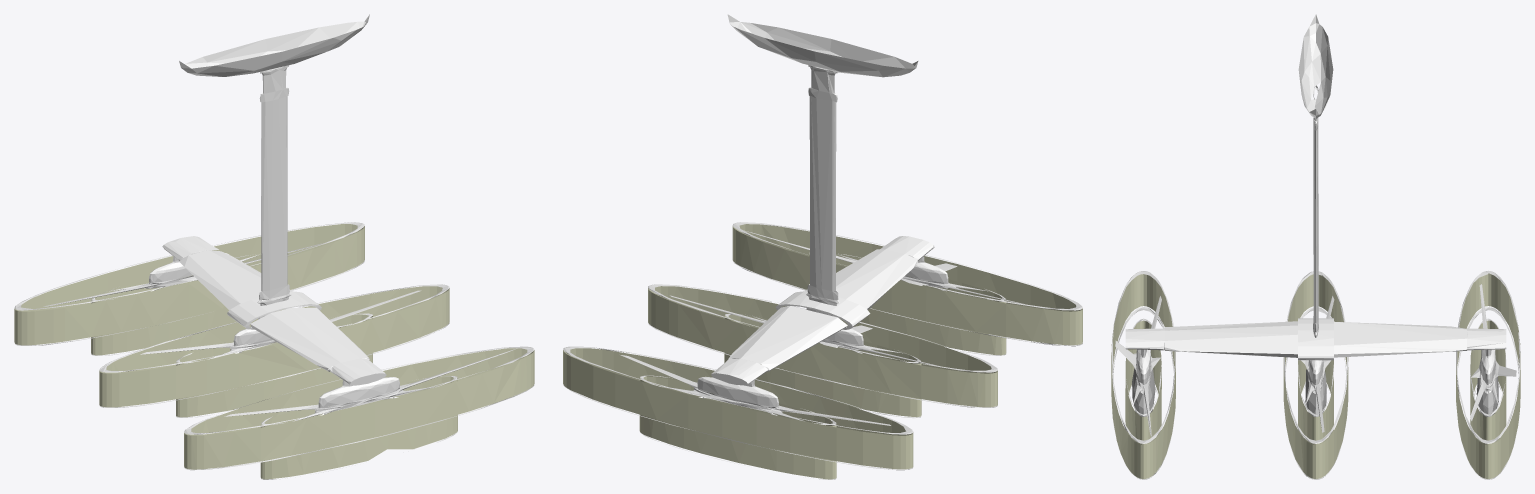
The model's file is sh-scopia-saloon-lamp.glb.
3 views of the same model, side by side, from view 1: azimuth 30°, elevation 25°; view 2: azimuth 150°, elevation 25°; view 3: azimuth 270°, elevation 25° (orthographic).
Visible parts, largest first — view 1: Circle_Circle_pantalla, Circle_Circle_gold, Circle_Circle_redwood, Circle_Circle_whitemetal; view 2: Circle_Circle_pantalla, Circle_Circle_gold, Circle_Circle_redwood, Circle_Circle_whitemetal; view 3: Circle_Circle_pantalla, Circle_Circle_redwood, Circle_Circle_whitemetal, Circle_Circle_gold, bulb1.002_Plane.002.
Boxes of the visible parts, <box> form: Circle_Circle_pantalla: <box>14,224,534,479</box>; Circle_Circle_gold: <box>149,65,399,415</box>; Circle_Circle_redwood: <box>179,14,369,371</box>; Circle_Circle_whitemetal: <box>14,222,534,479</box>; Circle_Circle_pantalla: <box>563,224,1082,479</box>; Circle_Circle_gold: <box>697,65,948,415</box>; Circle_Circle_redwood: <box>727,14,918,370</box>; Circle_Circle_whitemetal: <box>563,222,1082,479</box>; Circle_Circle_pantalla: <box>1111,273,1520,478</box>; Circle_Circle_redwood: <box>1165,14,1466,357</box>; Circle_Circle_whitemetal: <box>1111,270,1520,479</box>; Circle_Circle_gold: <box>1125,85,1506,393</box>; bulb1.002_Plane.002: <box>1132,368,1498,416</box>.
Size of the model in its own units: 1 by 0.9763 by 1.
